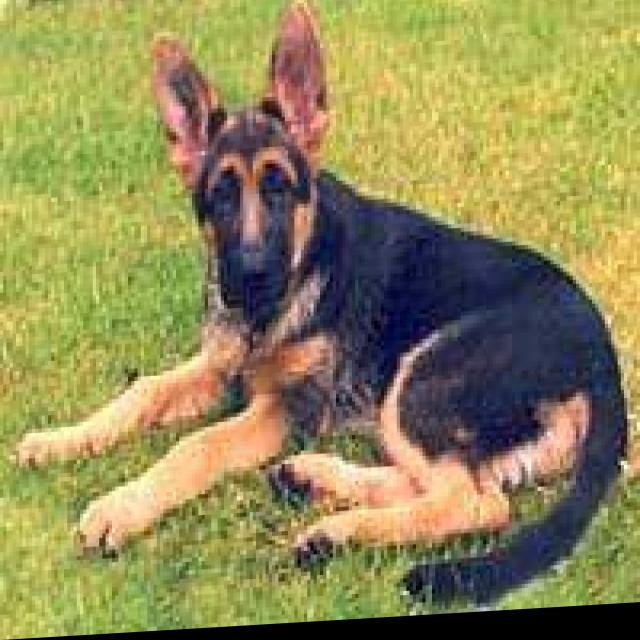sheperd: (100, 5, 423, 420)
